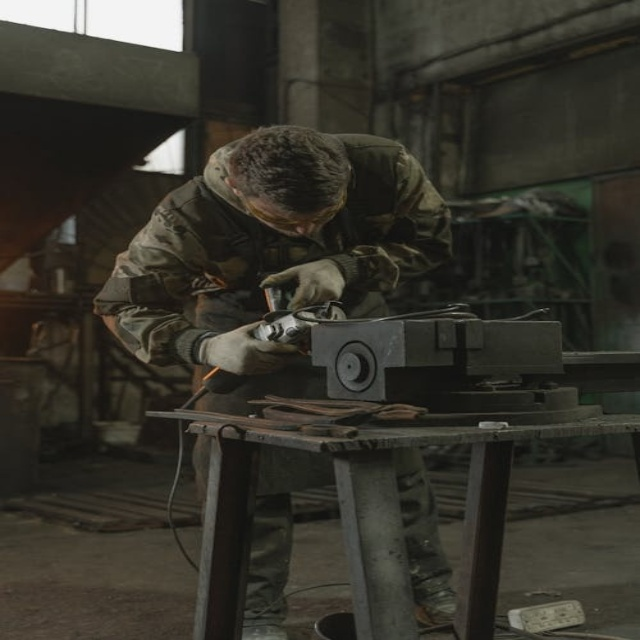Gafas: (239, 179, 343, 231)
Guantes: (193, 324, 304, 377), (260, 256, 360, 311)
